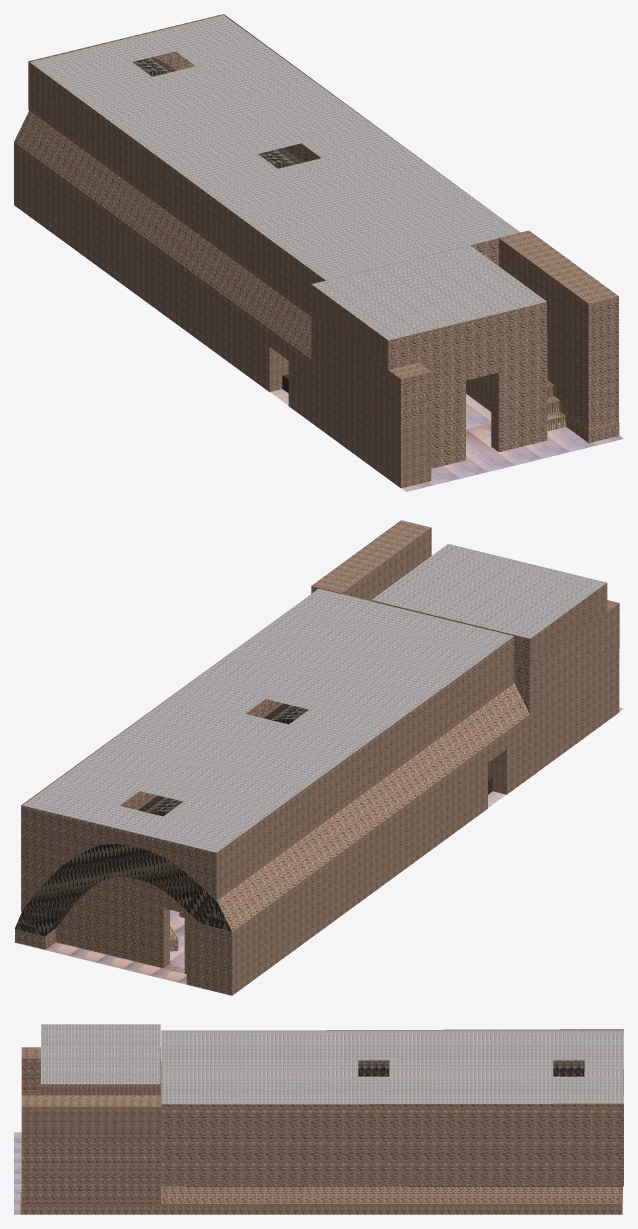
The model's file is Mithraeum_Mithrasthermen_Ostia_texturiert.glb.
The picture shows the model from 3 angles, top to bottom: view 1: azimuth 30°, elevation 25°; view 2: azimuth 150°, elevation 25°; view 3: azimuth 270°, elevation 25°; orthographic projection. The views are drawn at different scales.
Visible parts, largest first — view 1: Boden oben.005, Ostwand.002, Boden oben.003, Boden oben.004, Boden oben.006, Gewölbeausgleich links.001, Dach, Treppenstufe1, Boden, Dach.001, Ostwand.007, Westwand.005 (+13 smaller); view 2: Boden oben.005, Ostwand.002, Boden oben.003, Boden oben.004, Boden oben.006, Gewölbeausgleich links.001, Dach, Südwand.001, Gewölbe.002, Boden oben.007, Ostwand.007, Westwand (+8 smaller); view 3: Boden oben.002, Boden oben.005, Westwand.011, Boden oben.003, Boden oben.004, Gewölbeausgleich rechts.002, Dach, Westwand.002, Westwand.003, Westwand, Gewölbe.002, Dach.005 (+3 smaller).
Boxes of the visible parts, x1,y1,x2,y2 form: Boden oben.005: (30,15,325,280); Ostwand.002: (14,141,400,487); Boden oben.003: (176,15,520,232); Boden oben.004: (278,158,519,280); Boden oben.006: (28,61,325,316); Gewölbeausgleich links.001: (14,111,311,358); Dach: (311,245,546,340); Treppenstufe1: (419,331,547,468); Boden: (270,389,623,491); Dach.001: (388,302,546,369); Ostwand.007: (311,314,400,424); Westwand.005: (547,303,588,428); Boden oben.005: (22,636,513,852); Ostwand.002: (232,649,619,995); Boden oben.003: (22,589,318,806); Boden oben.004: (266,588,513,709); Boden oben.006: (216,637,514,900); Gewölbeausgleich links.001: (217,683,529,931); Dach: (372,544,606,638); Südwand.001: (55,876,186,973); Gewölbe.002: (21,703,308,935); Boden oben.007: (21,805,216,911); Ostwand.007: (529,603,619,713); Westwand: (311,520,431,593); Boden oben.002: (161,1103,623,1186); Boden oben.005: (162,1030,623,1103); Westwand.011: (21,1130,160,1204); Boden oben.003: (164,1076,622,1104); Boden oben.004: (161,1030,358,1104); Gewölbeausgleich rechts.002: (161,1186,622,1203); Dach: (41,1024,160,1084); Westwand.002: (20,1204,621,1214); Westwand.003: (21,1107,161,1130); Westwand: (20,1095,161,1203); Gewölbe.002: (160,1062,622,1191); Dach.005: (41,1084,160,1095).
Size of the model in its own units: 5.02 by 3.07 by 15.63.
Materials: 49 (49 with a texture image).
